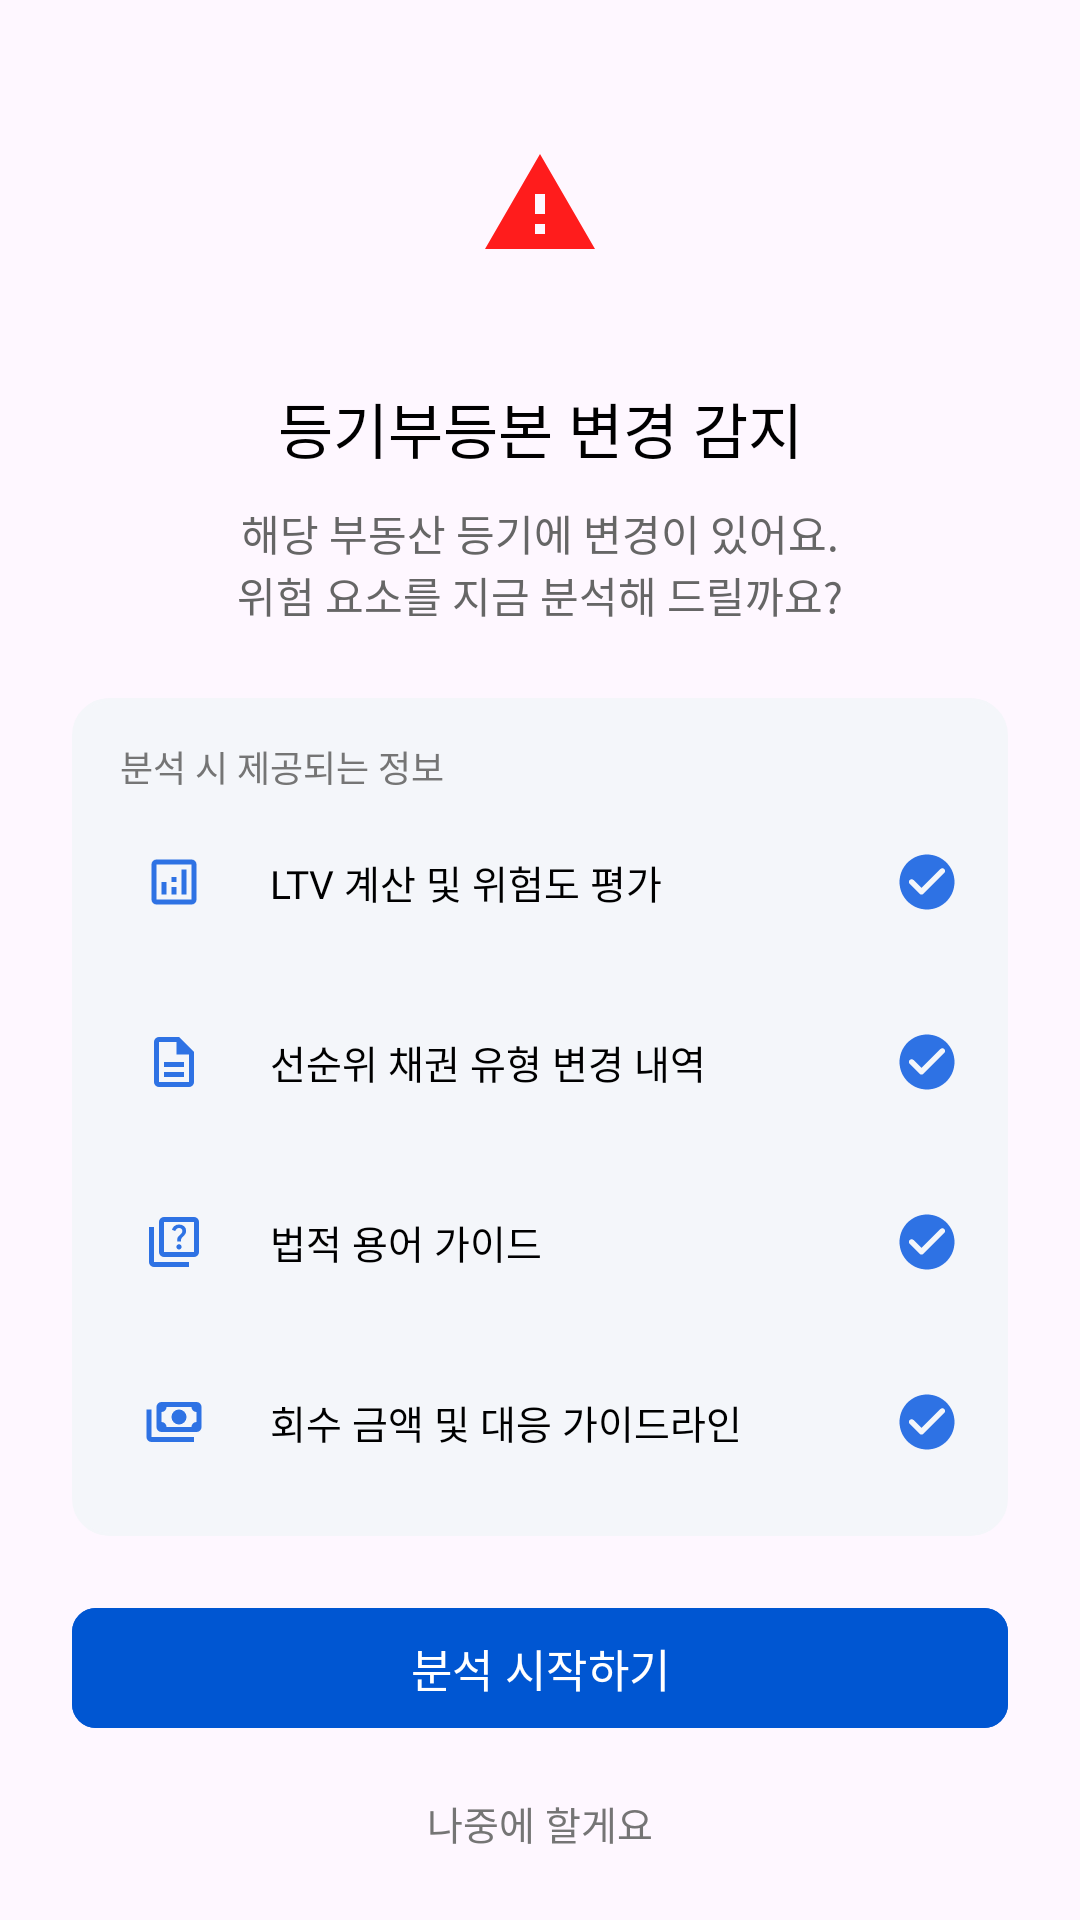

Icons on this 1080w x 1920h Android screen, each with its box as (x1, y1, x2, y2):
analytics: (151, 859, 197, 905)
check circle: (899, 854, 955, 910), (899, 1034, 955, 1090), (899, 1214, 955, 1270), (899, 1394, 955, 1450)
description: (154, 1037, 194, 1087)
payments: (146, 1402, 202, 1442)
quiz: (149, 1217, 199, 1267)
warning: (485, 154, 595, 249)
